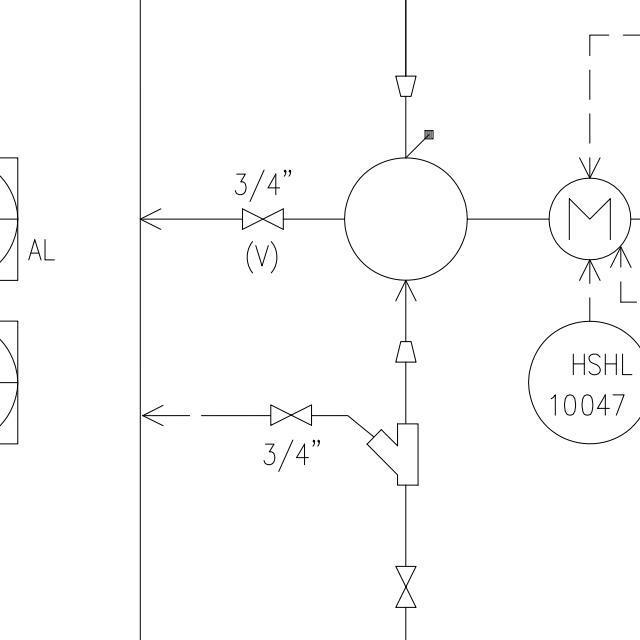GV: (393, 560, 421, 614), (265, 400, 317, 429), (238, 205, 290, 231)
SP: (548, 175, 633, 263), (392, 70, 419, 101), (393, 337, 419, 369)
